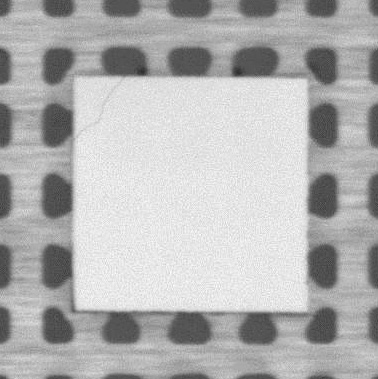DIE_CRACK: (76, 76, 127, 139)
